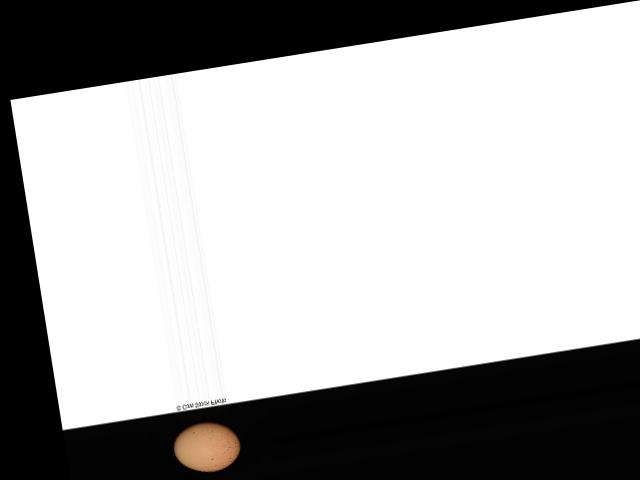egg: (170, 416, 243, 476)
